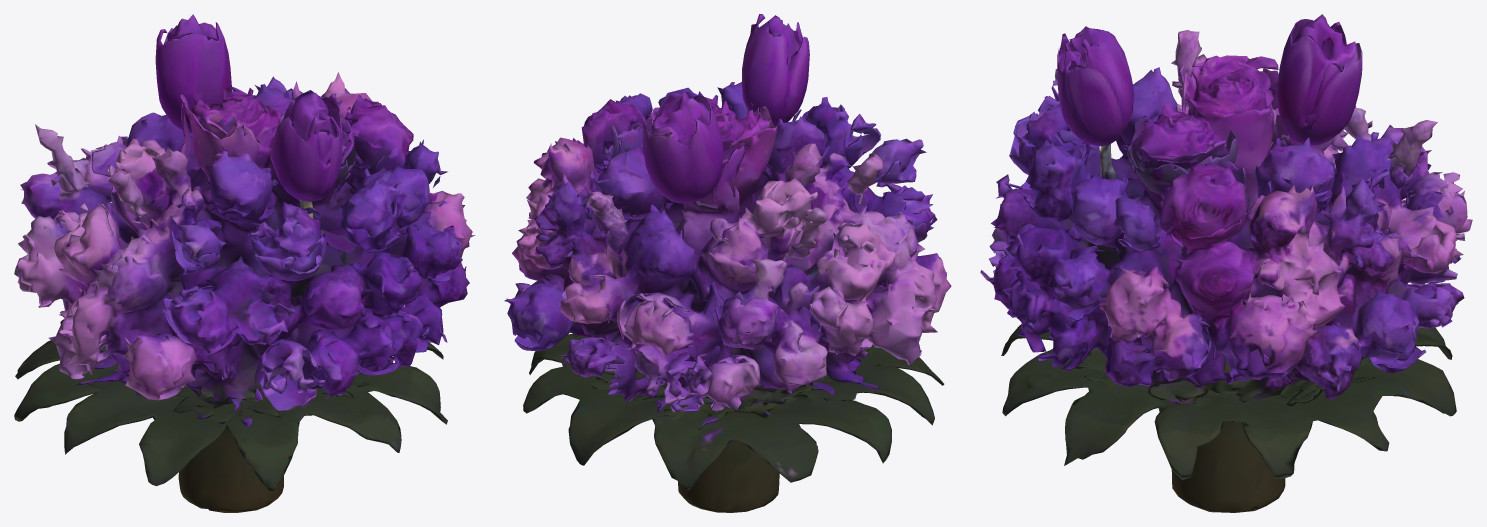
File: bouquet.glb
The picture shows the model from 3 angles, left to right: view 1: azimuth 30°, elevation 25°; view 2: azimuth 150°, elevation 25°; view 3: azimuth 270°, elevation 25°; orthographic projection. The views are drawn at different scales.
Parts seen in each view (by area): view 1: tripo_node_1f5a71f9-b137-4472-87c5-e1ea2773141e; view 2: tripo_node_1f5a71f9-b137-4472-87c5-e1ea2773141e; view 3: tripo_node_1f5a71f9-b137-4472-87c5-e1ea2773141e.
Part boxes in pixels (box(x1,y1,x2,y2)): tripo_node_1f5a71f9-b137-4472-87c5-e1ea2773141e: box(14, 14, 475, 512); tripo_node_1f5a71f9-b137-4472-87c5-e1ea2773141e: box(504, 14, 951, 512); tripo_node_1f5a71f9-b137-4472-87c5-e1ea2773141e: box(980, 14, 1472, 512).
Size of the model in its own units: 0.925 by 0.9998 by 0.937.
1 material, 1 textured.
